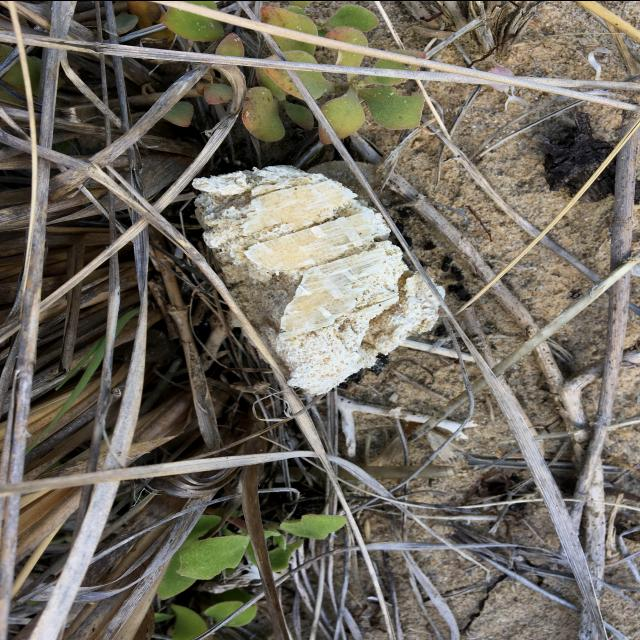Styrofoam piece: (192, 165, 440, 395)
